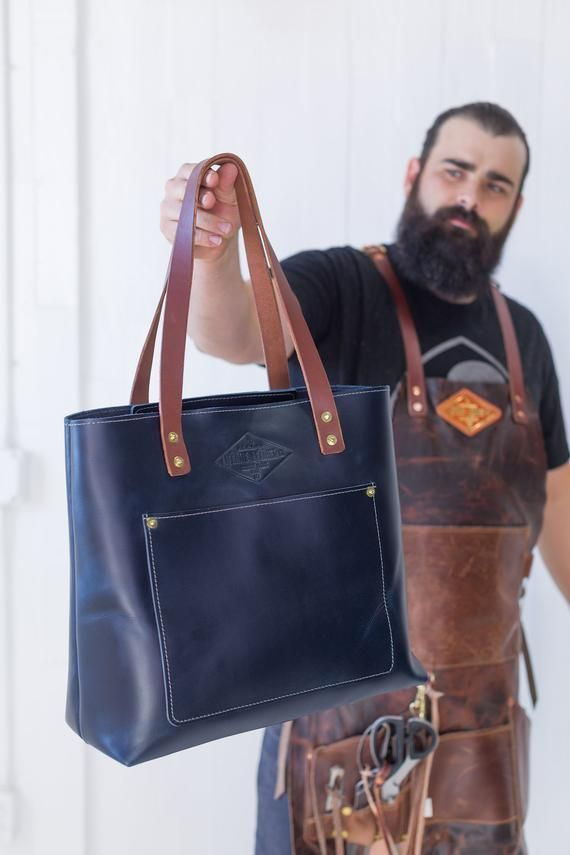cuero: (65, 154, 547, 855)
